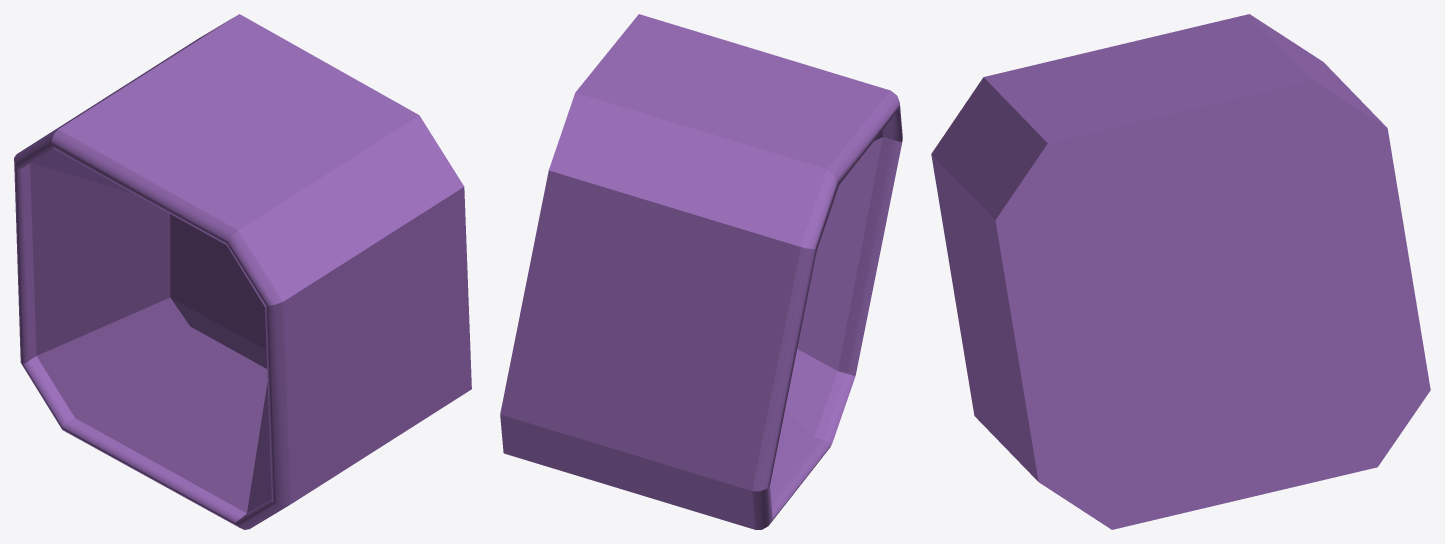
The model's file is TL5_8shapes_Square_Classic_Metal.001 3.glb.
3 renders of one model, left to right at view 1: azimuth 30°, elevation 25°; view 2: azimuth 150°, elevation 25°; view 3: azimuth 270°, elevation 25°, orthographic. The views are drawn at different scales.
Parts seen in each view (by area): view 1: TL5_8shapes_Square_Classic_Metal.001; view 2: TL5_8shapes_Square_Classic_Metal.001; view 3: TL5_8shapes_Square_Classic_Metal.001.
Boxes of the visible parts, x1,y1,x2,y2 form: TL5_8shapes_Square_Classic_Metal.001: (14,14,471,529); TL5_8shapes_Square_Classic_Metal.001: (500,14,902,529); TL5_8shapes_Square_Classic_Metal.001: (931,14,1430,529).
Size of the model in its own units: 0.4911 by 0.5626 by 0.5751.
